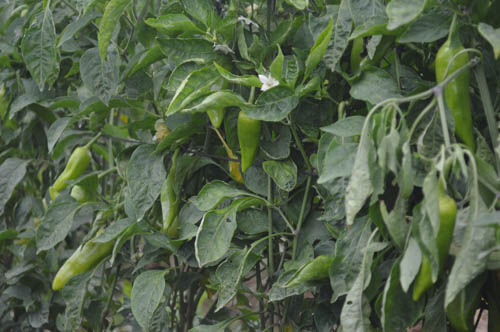ChiliPepper: (411, 197, 459, 303), (49, 218, 117, 289), (437, 44, 473, 150), (234, 107, 261, 173), (51, 148, 91, 192), (162, 173, 176, 226)
